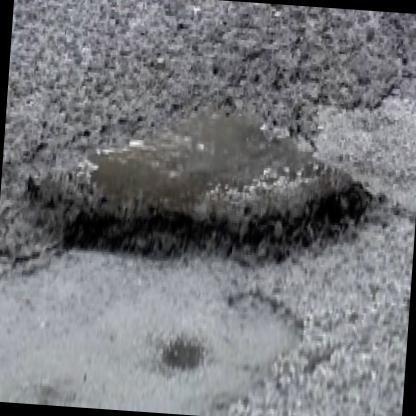pothole: (11, 96, 392, 266)
